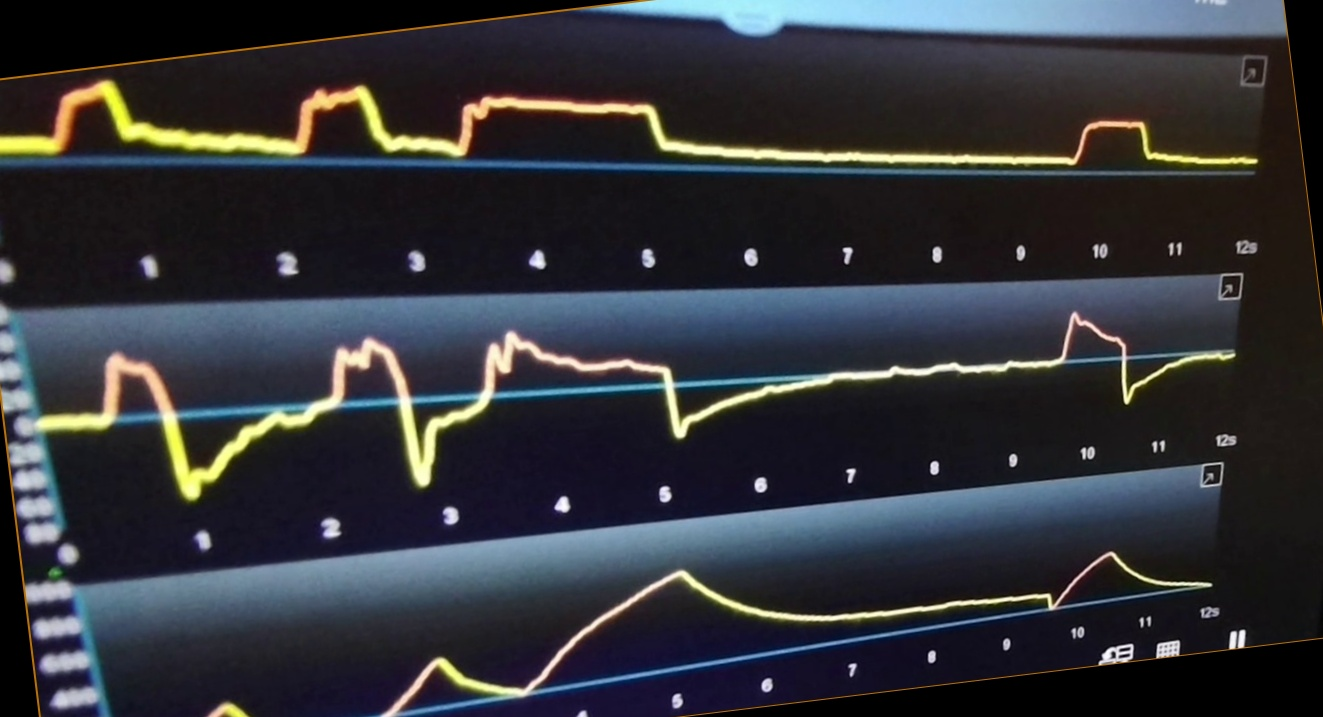Accumulation Flow: (46, 307, 1240, 503)
Volume: (219, 547, 1214, 717)
